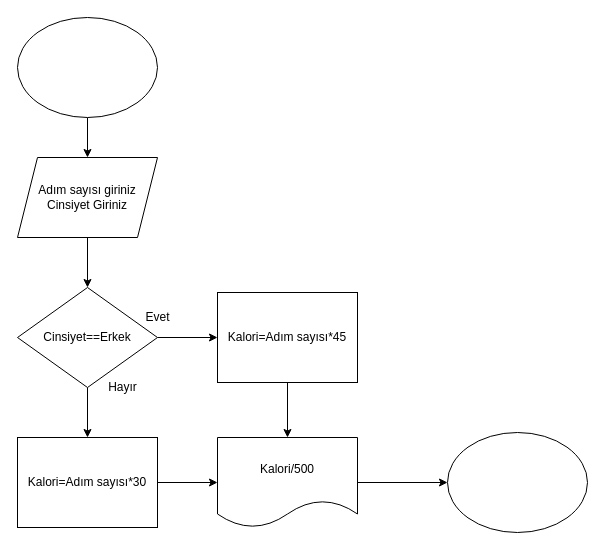
Image size: 605x550. Some labels were removed from this diagram. Here are the shapes that lost their labels. From the top down, the centre of each, then its label:
(x=87, y=67): Başla
(x=517, y=482): Dur
